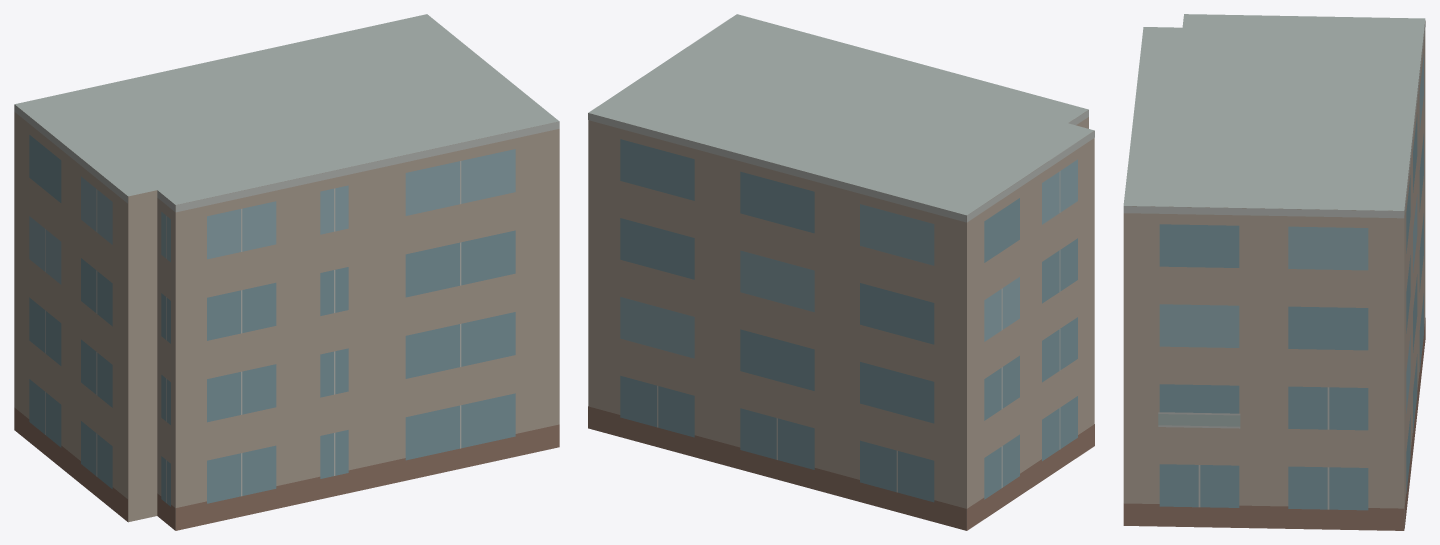
Rendered from survey-upis-33030600.glb.
3 renders of one model, left to right at view 1: azimuth 30°, elevation 25°; view 2: azimuth 150°, elevation 25°; view 3: azimuth 270°, elevation 25°, orthographic. The views are drawn at different scales.
Parts seen in each view (by area): view 1: survey-upis-33030600.tmp; view 2: survey-upis-33030600.tmp; view 3: survey-upis-33030600.tmp.
Part boxes in pixels (<box>): survey-upis-33030600.tmp: <box>14,14,559,530</box>; survey-upis-33030600.tmp: <box>588,14,1094,530</box>; survey-upis-33030600.tmp: <box>1123,14,1425,530</box>.
Size of the model in its own units: 14.14 by 10.7 by 9.17.
